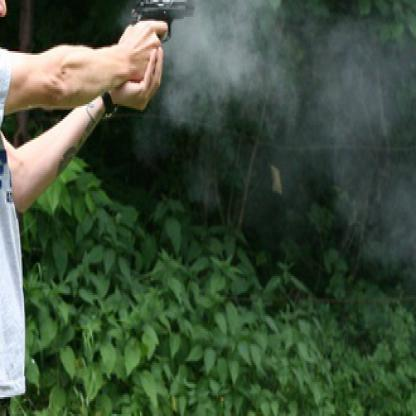gun: (124, 0, 200, 51)
